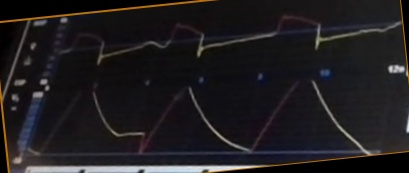Ineffective_effort Flow: (60, 12, 401, 66)
Ineffective_effort Volume: (28, 80, 378, 159)
